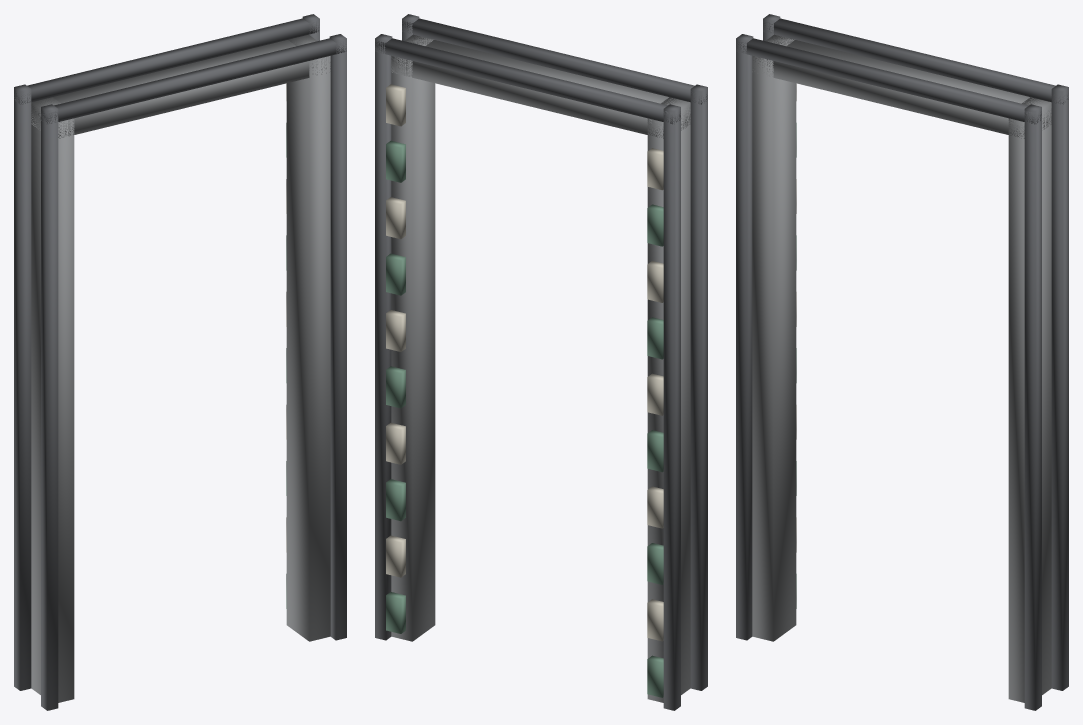
The model's file is doorway_tile_return_w96_h220_d16.glb.
3 renders of one model, left to right at view 1: azimuth 30°, elevation 25°; view 2: azimuth 150°, elevation 25°; view 3: azimuth 330°, elevation 25°, orthographic.
Visible parts, largest first — view 1: world; view 2: world; view 3: world.
Boxes of the visible parts, x1,y1,x2,y2 form: world: [14, 14, 346, 710]; world: [375, 14, 707, 710]; world: [736, 14, 1068, 710].
Bounding box in the file's own units: 1.22 × 2.34 × 0.2407.
